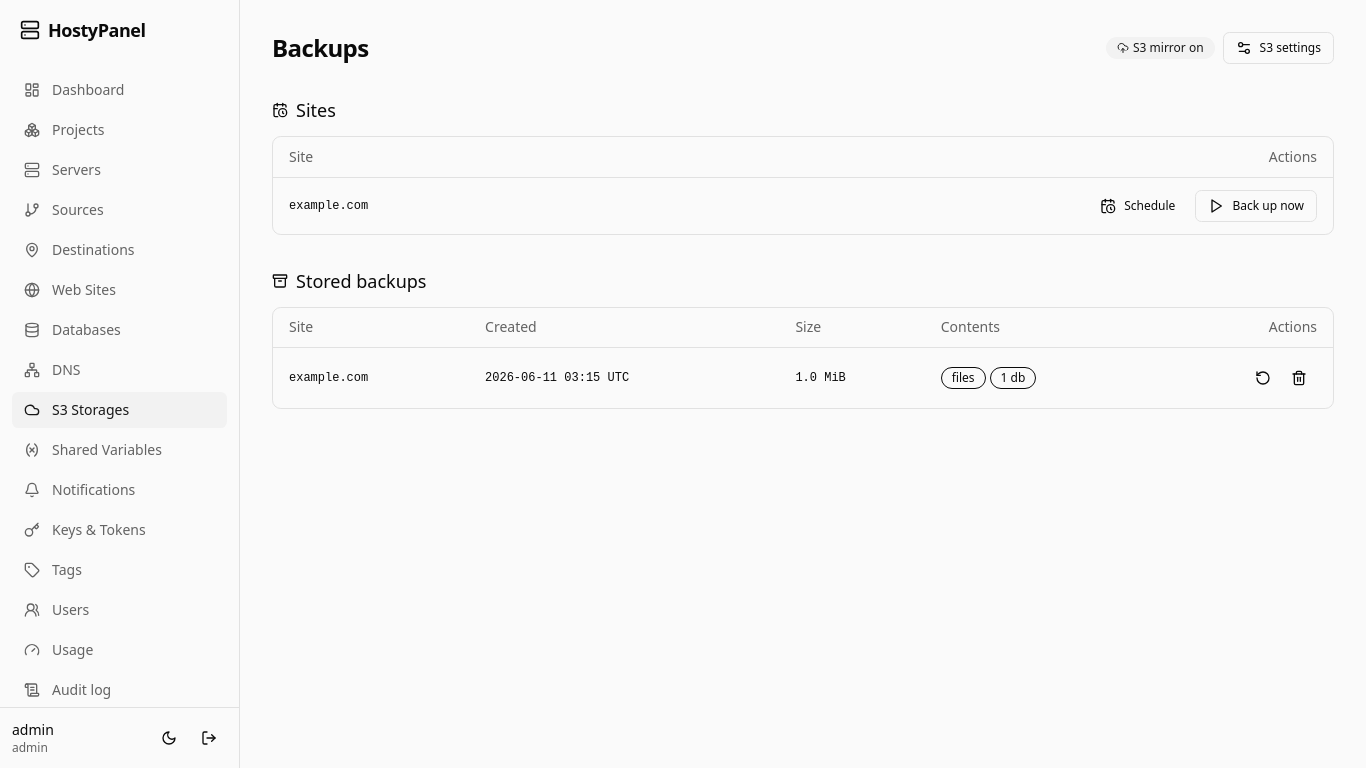
Test: BackupsPage › runs a backup now and shows live operation progress
Step 1. Click the button with aria-label "back up example.com now" → (1256, 206), box [1195, 190, 1317, 222]
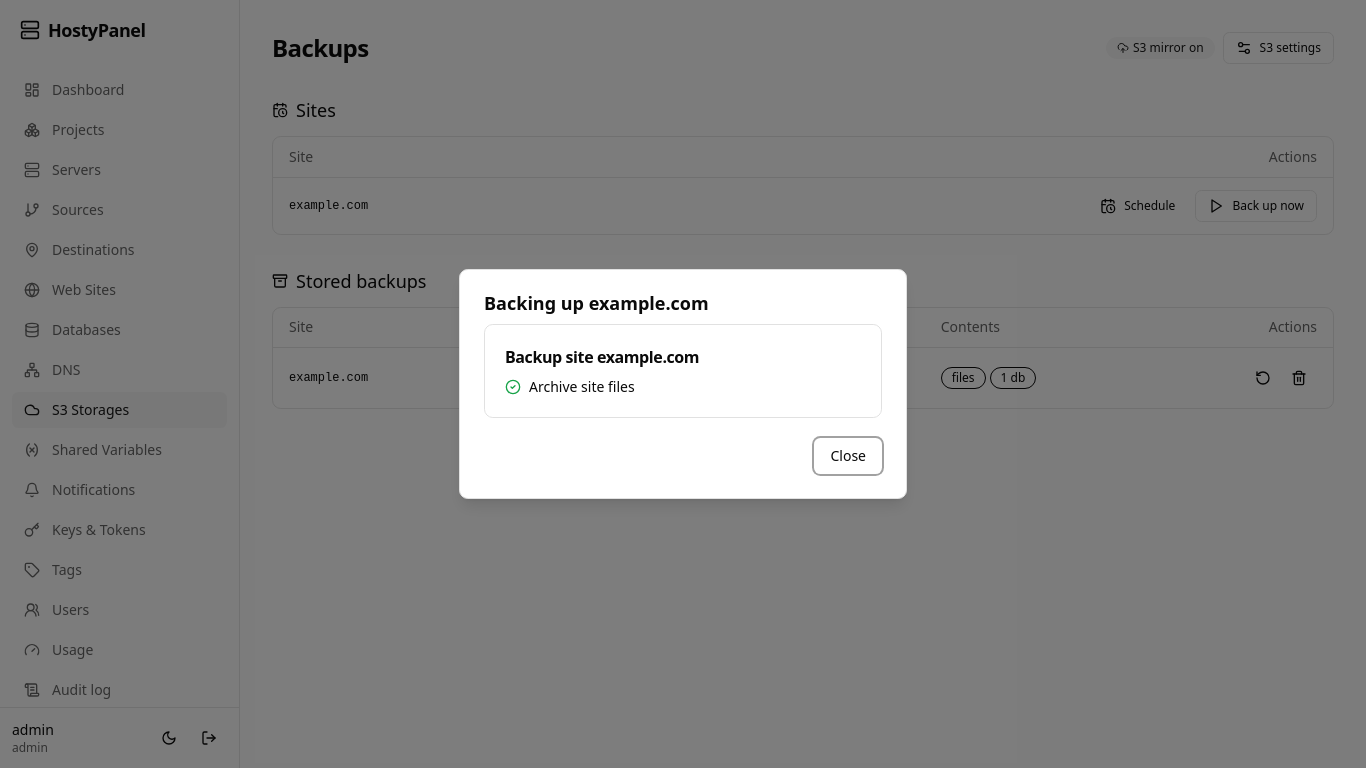
Now the text "Archive site files" is shown, box [529, 377, 635, 397]
